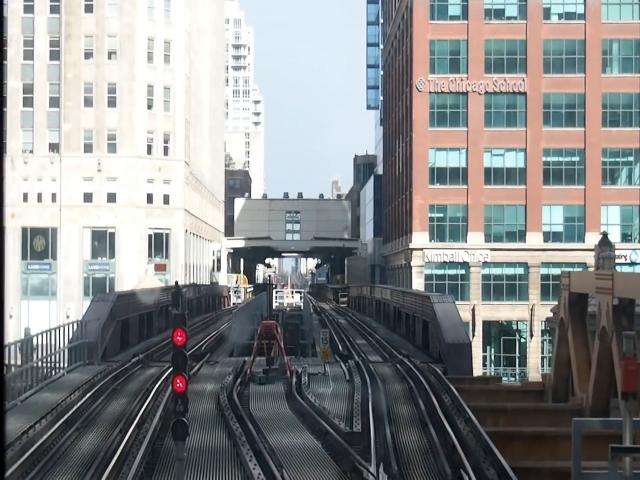signal light: (170, 312, 193, 454)
